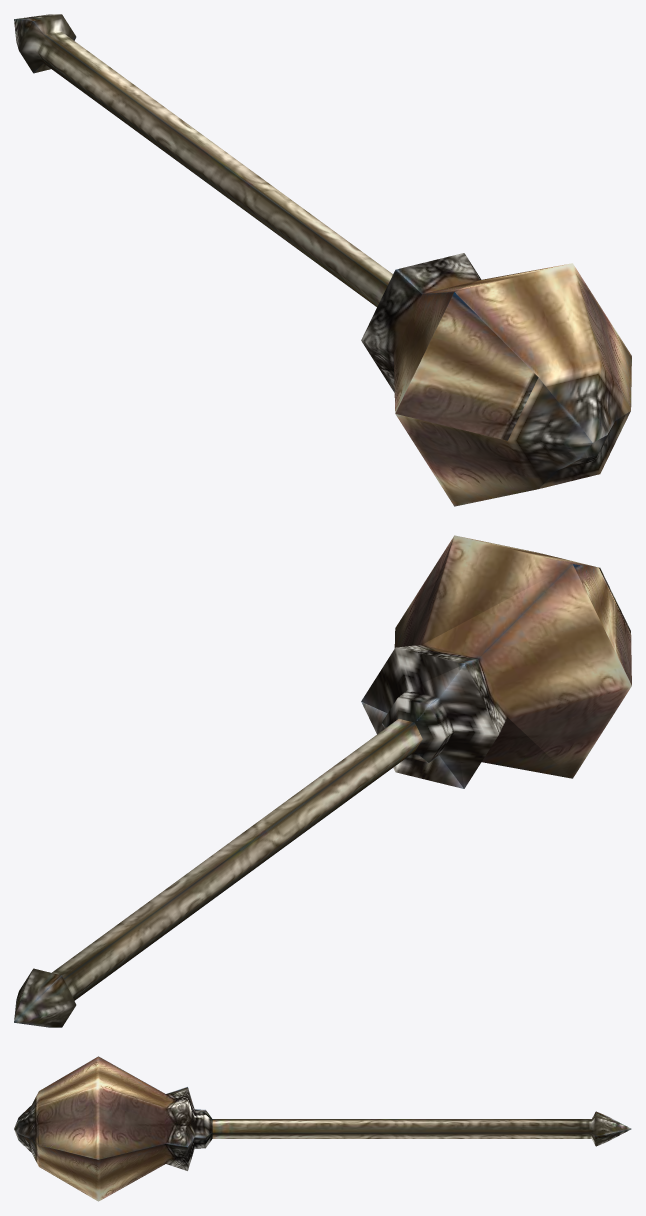
3 renders of one model, top to bottom at view 1: azimuth 30°, elevation 25°; view 2: azimuth 150°, elevation 25°; view 3: azimuth 270°, elevation 25°, orthographic. The views are drawn at different scales.
Visible parts, largest first — view 1: wpnHM02; view 2: wpnHM02; view 3: wpnHM02.
Part boxes in pixels (x1,y1,x2,y2): wpnHM02: (14, 14, 631, 506); wpnHM02: (14, 535, 631, 1027); wpnHM02: (14, 1056, 631, 1201).
Bounding box in the file's own units: 8.73 × 7.56 × 36.97.
Materials: 1 (1 with a texture image).
